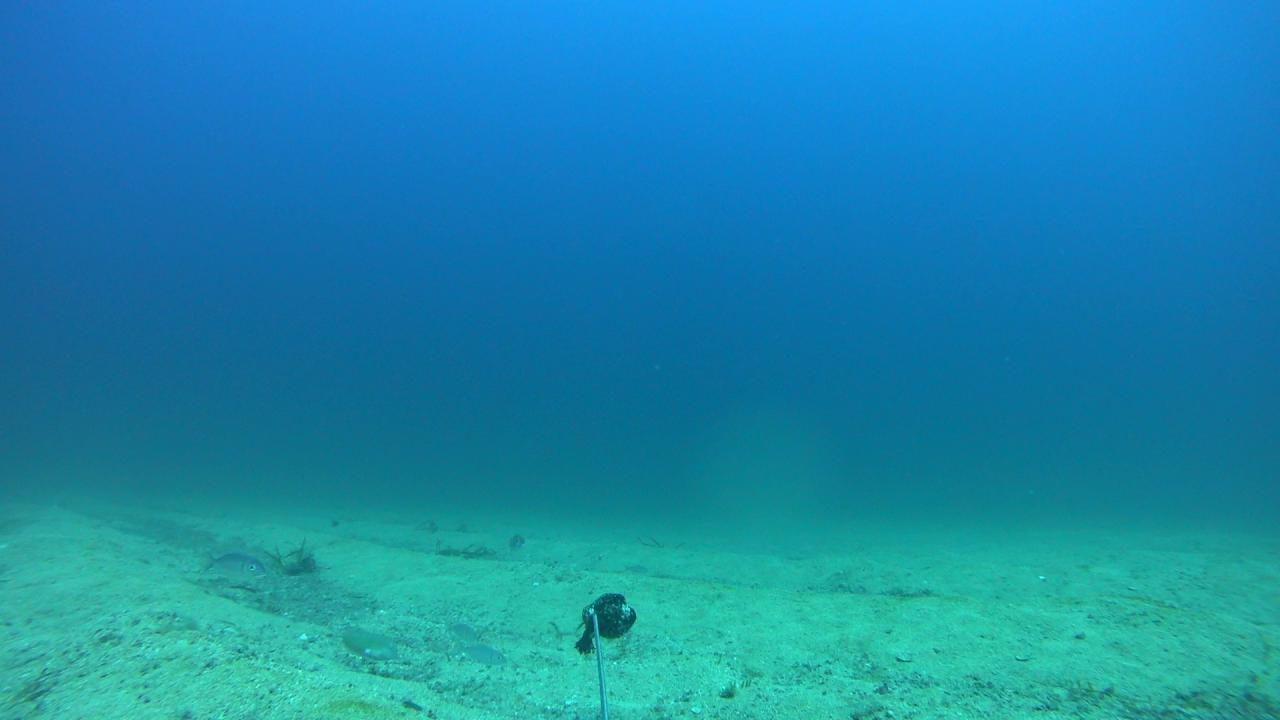pagellus: (202, 550, 265, 578), (441, 642, 515, 664), (440, 610, 480, 641)
raor: (340, 621, 403, 661)
